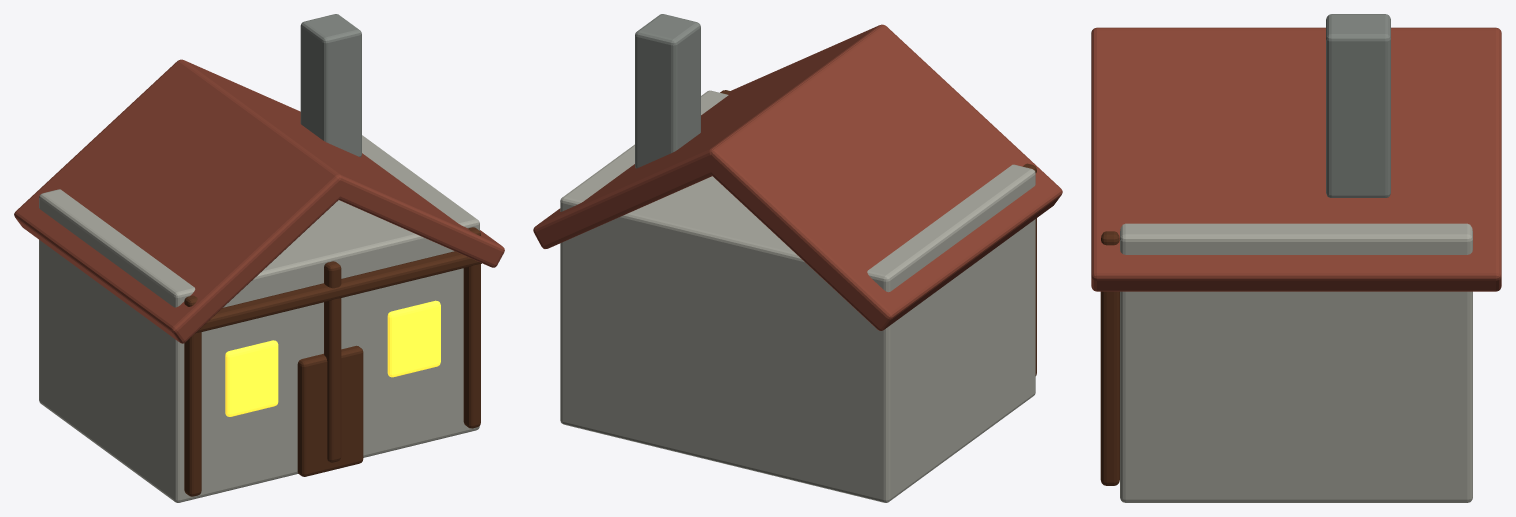
The model's file is SM_TownHouse.fbx.
3 renders of one model, left to right at view 1: azimuth 30°, elevation 25°; view 2: azimuth 150°, elevation 25°; view 3: azimuth 270°, elevation 25°, orthographic. The views are drawn at different scales.
Visible parts, largest first — view 1: SM_TownHouse; view 2: SM_TownHouse; view 3: SM_TownHouse.
Boxes of the visible parts, x1,y1,x2,y2 form: SM_TownHouse: (14,14,504,502); SM_TownHouse: (533,14,1062,502); SM_TownHouse: (1091,14,1501,502).
Bounding box in the file's own units: 512 × 430 × 515.
